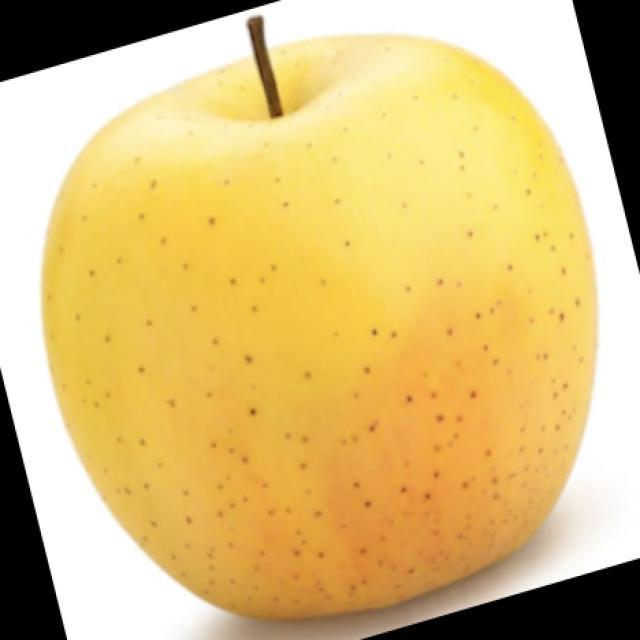Fresh Apple: (65, 45, 603, 612)
